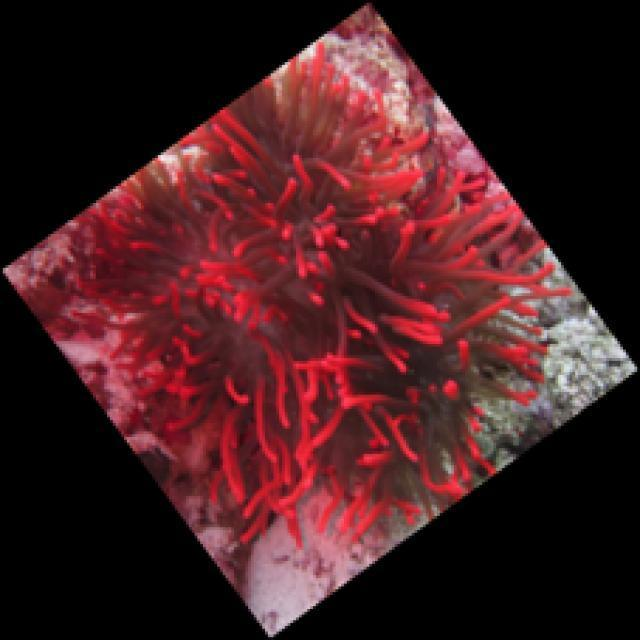Healthy: (65, 41, 573, 542)
